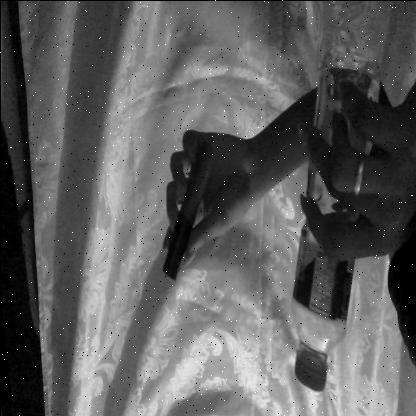Plastic Bottle: (290, 43, 390, 393)
